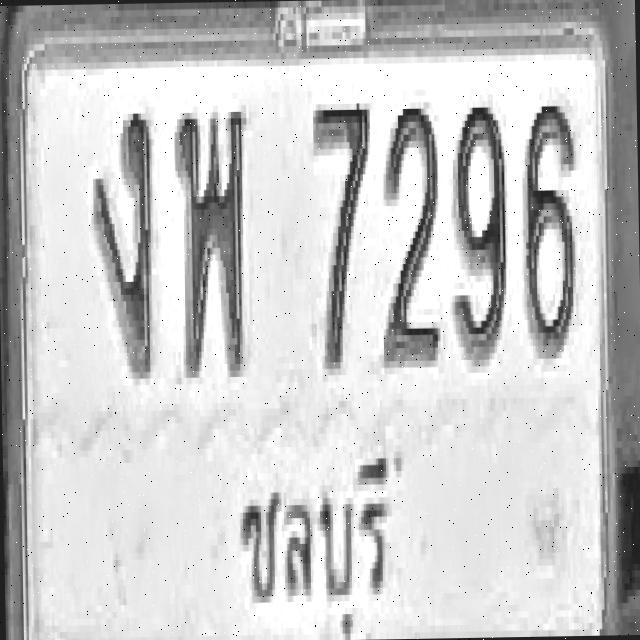16NgorNgu: (91, 110, 155, 376)
2: (378, 102, 439, 360)
39PhorPan: (174, 105, 248, 378)
6: (520, 96, 576, 355)
7: (311, 96, 372, 368)
9: (450, 100, 506, 359)
Chonburi: (229, 424, 395, 640)
